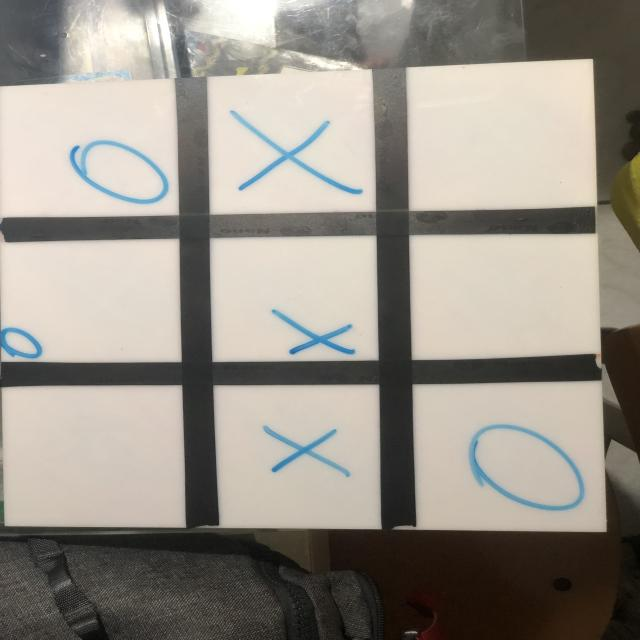null: (407, 58, 598, 210), (5, 382, 188, 527), (407, 234, 602, 361)
o: (464, 419, 594, 517), (64, 135, 168, 207), (1, 320, 48, 359)
table: (0, 57, 606, 541)
x: (220, 103, 364, 200), (261, 419, 351, 478), (270, 303, 359, 359)
